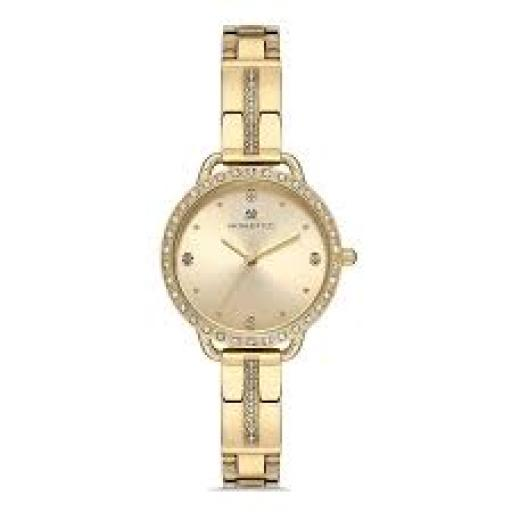KolSaati: (162, 14, 357, 512)
